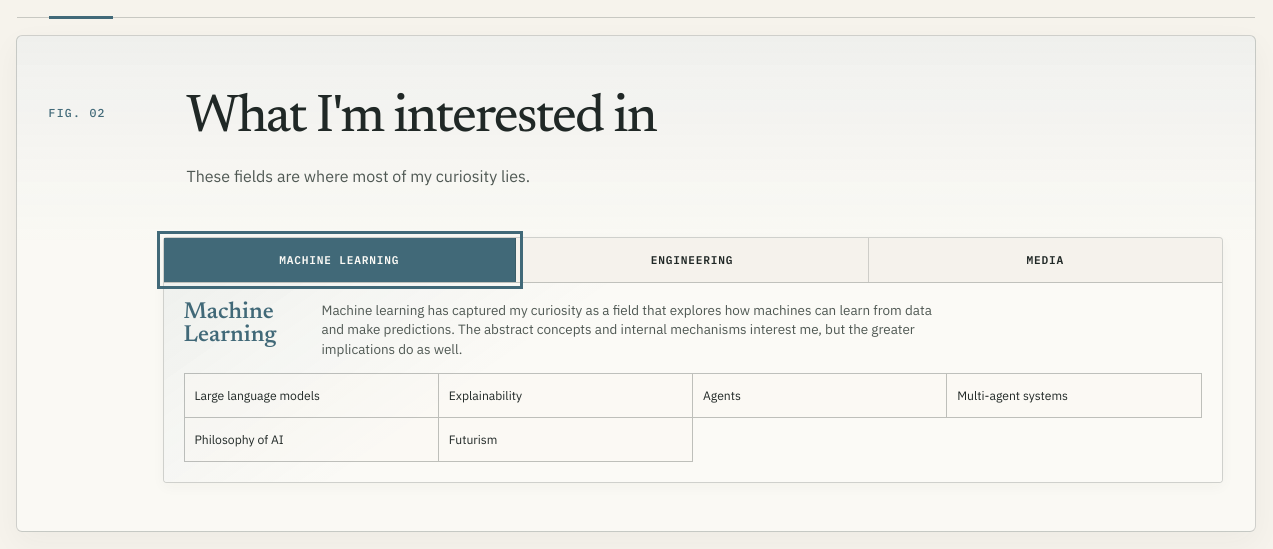
Test: notebook content and interactions › supports keyboard interest previews and a click fallback
Press ArrowRight in the tab "Machine Learning", box [164, 238, 516, 282]
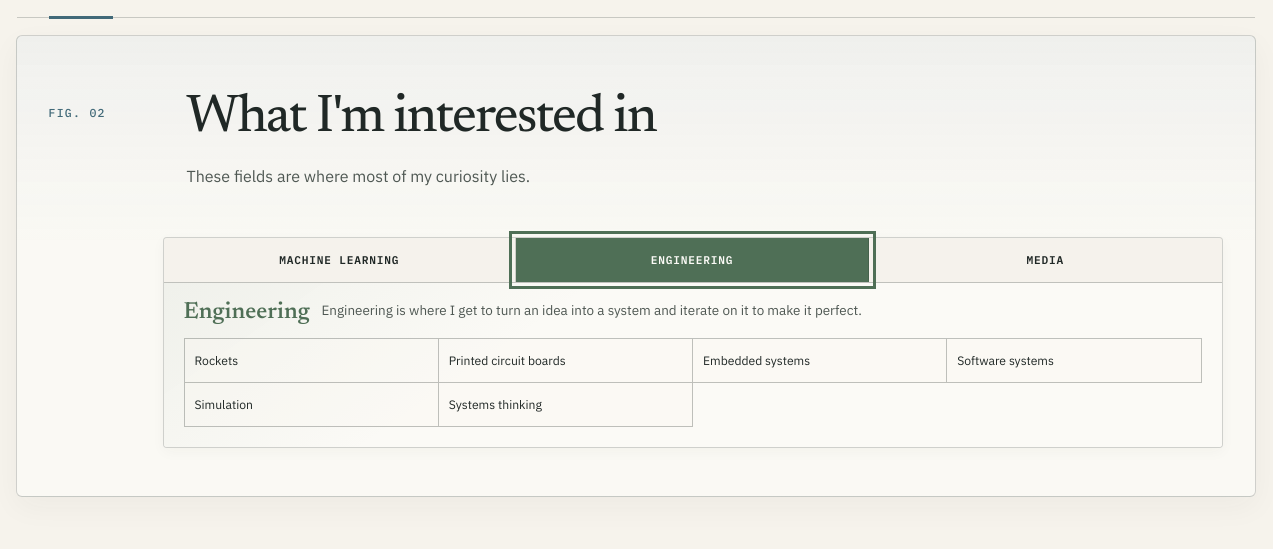
Expected: the tab "Engineering" is selected, [516, 238, 869, 282]
Expected: the tab "Machine Learning" is not selected, [164, 238, 516, 282]
Focus the button "Rockets" at {"x": 312, "y": 361}, box [184, 339, 439, 383]
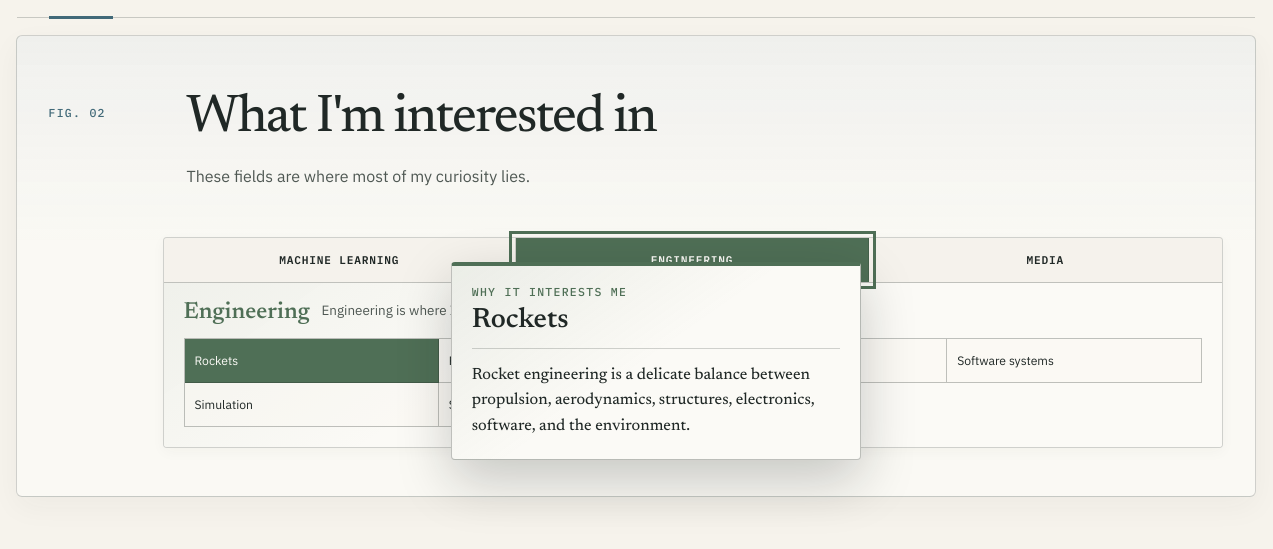
Expected: the tooltip "Rockets" is shown, [451, 262, 861, 460]
Press ArrowRight in the button "Rockets", box [184, 339, 439, 383]
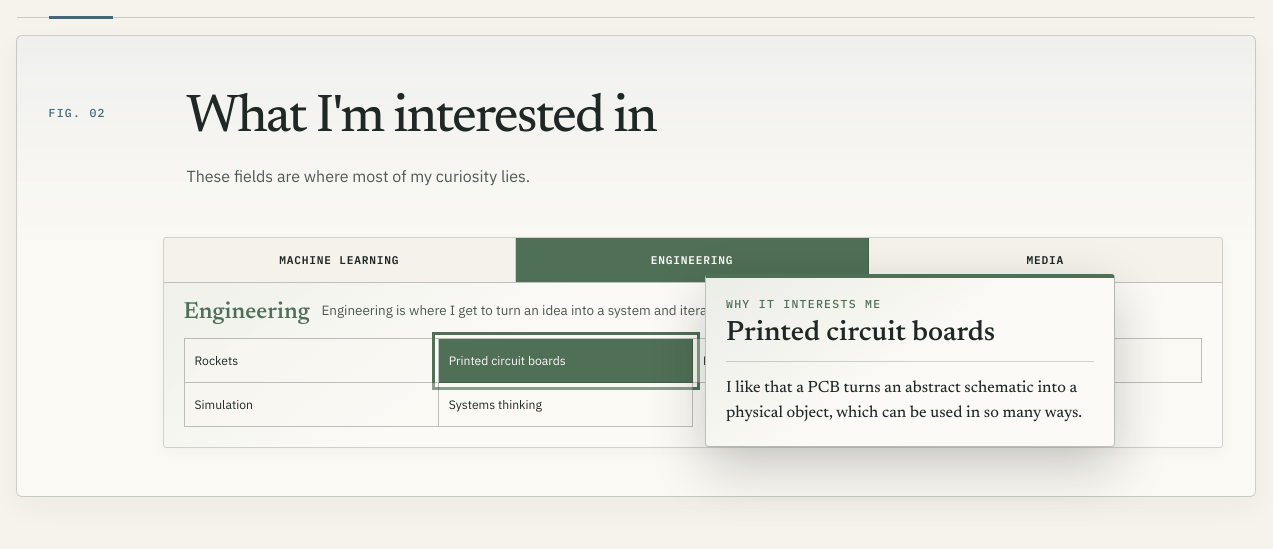
Expected: the tooltip "Printed circuit boards" is shown, [705, 274, 1115, 447]
Press Escape
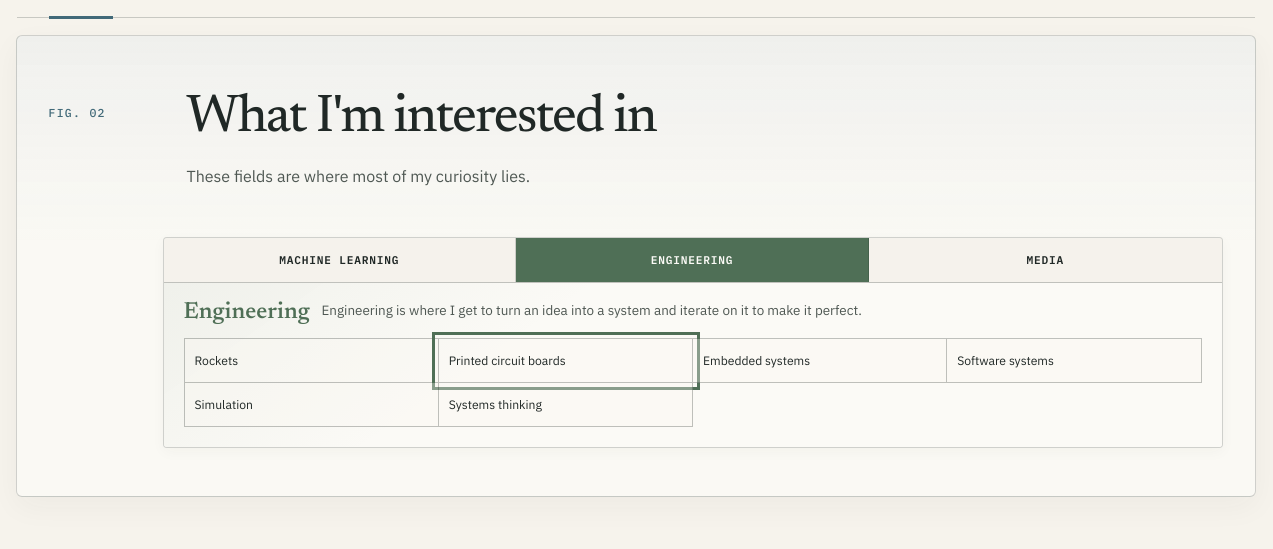
Expected: the tooltip is gone
Click the button "Printed circuit boards".
click(566, 361)  # box [439, 339, 693, 383]
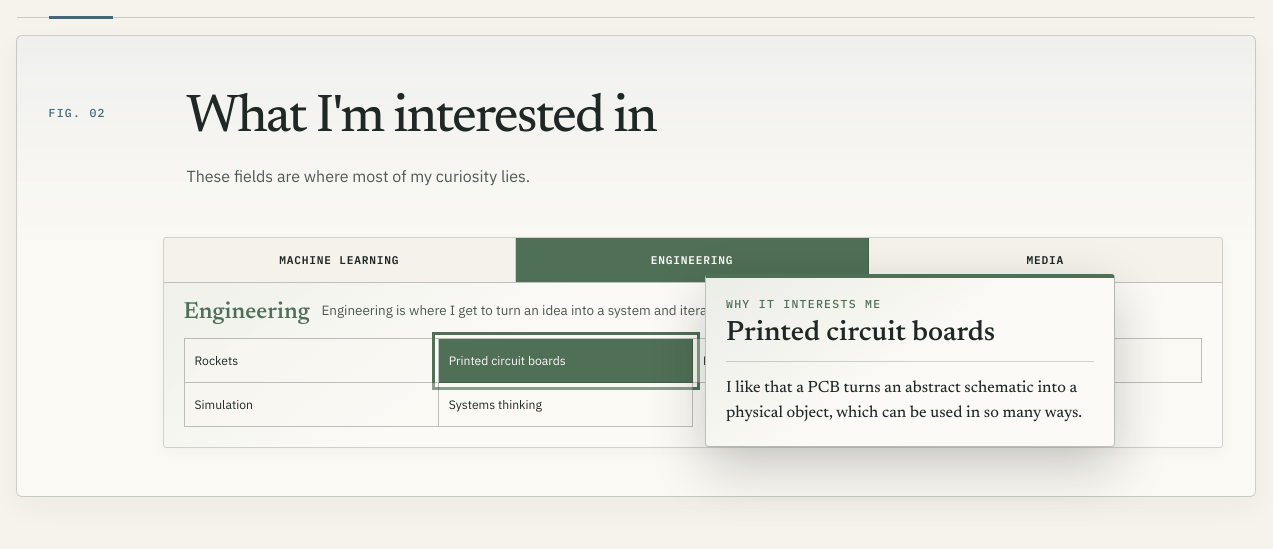
Expected: the tooltip "Printed circuit boards" is shown, [705, 274, 1115, 447]
Click the button "Printed circuit boards".
click(566, 361)  # box [439, 339, 693, 383]
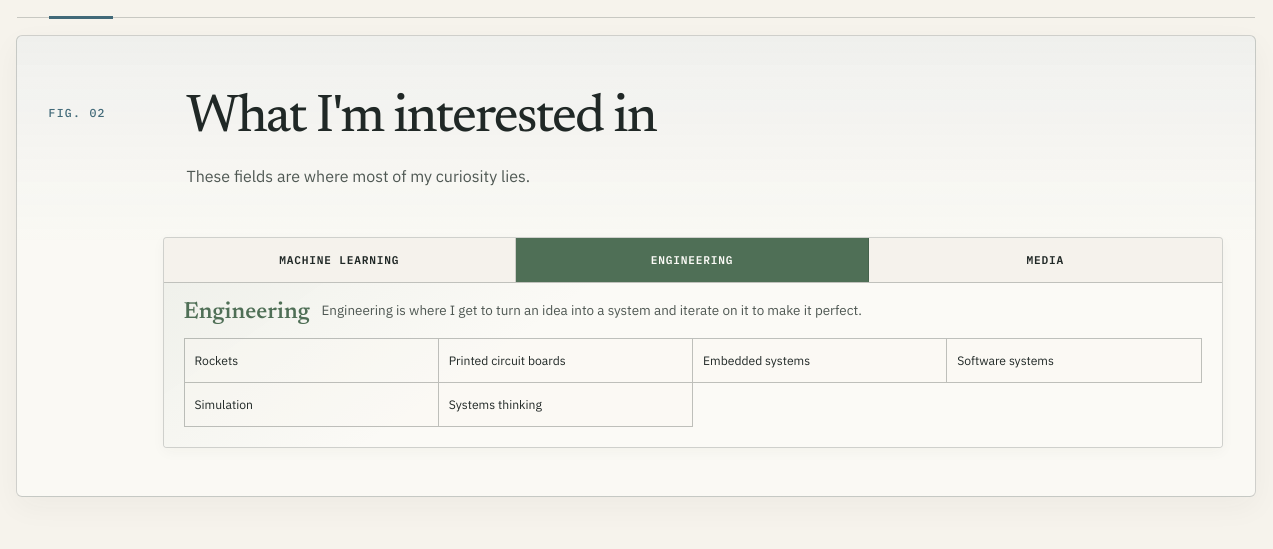
Expected: the tooltip is gone
